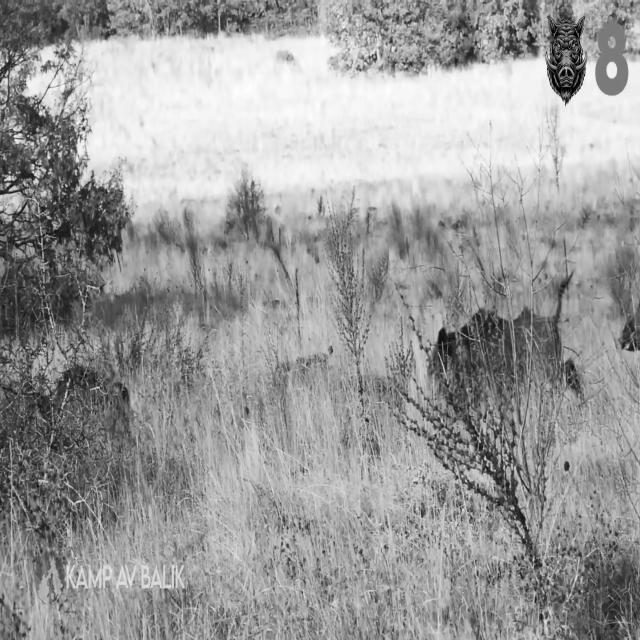boar: (430, 276, 581, 417)
